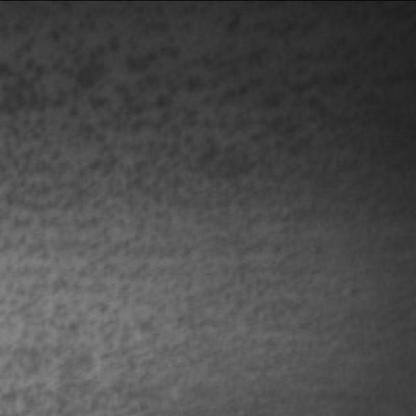pitted_surface: (2, 8, 397, 416)
